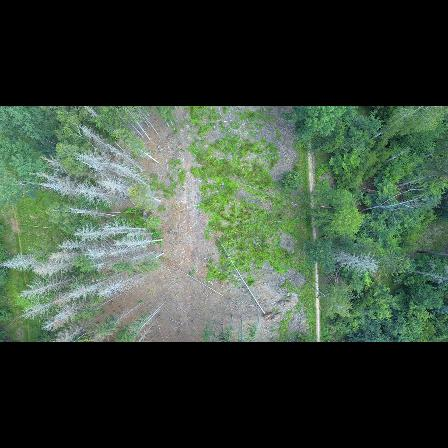Dead: (338, 248, 381, 280), (75, 122, 115, 152), (24, 294, 73, 318), (26, 257, 73, 281), (42, 307, 86, 332), (112, 232, 162, 253), (21, 274, 65, 297), (100, 270, 140, 295), (84, 244, 138, 258), (62, 206, 114, 220), (2, 251, 34, 273), (70, 185, 111, 201), (91, 177, 131, 193), (30, 182, 82, 194), (57, 298, 92, 314), (46, 245, 78, 262), (104, 219, 148, 231), (74, 226, 108, 240), (77, 157, 112, 170), (37, 161, 69, 174), (104, 164, 133, 178), (59, 238, 87, 251)
